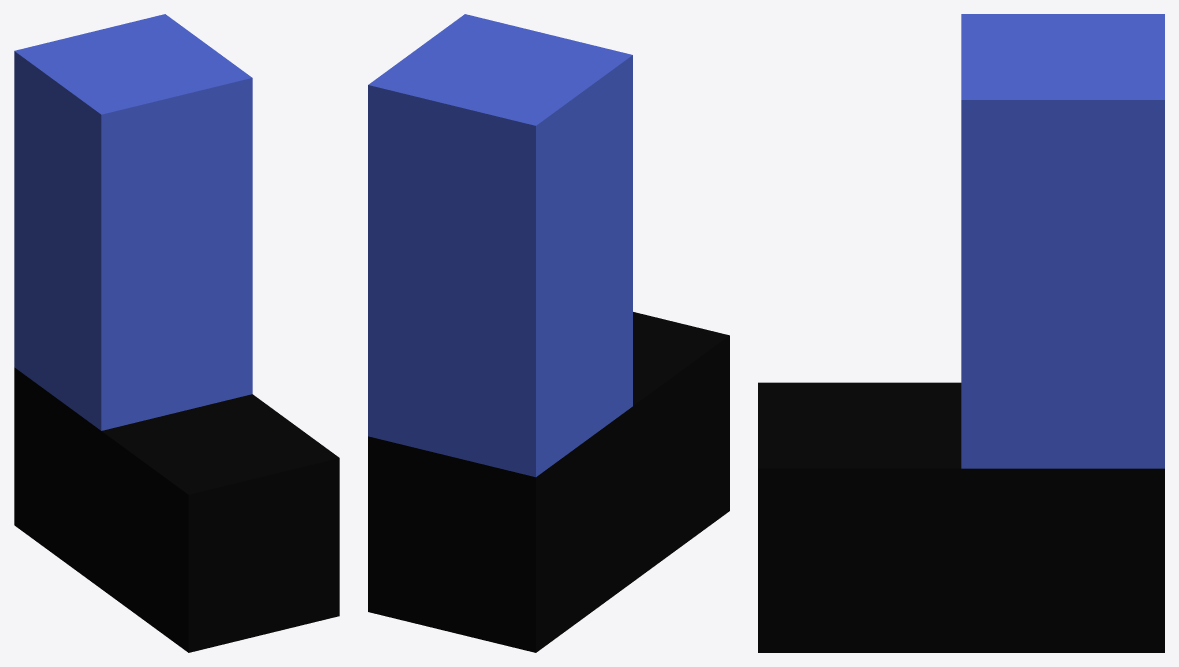
Rendered from people-2.obj.
3 views of the same model, side by side, from view 1: azimuth 30°, elevation 25°; view 2: azimuth 150°, elevation 25°; view 3: azimuth 270°, elevation 25° (orthographic). The views are drawn at different scales.
Size of the model in its own units: 0.1 by 0.3 by 0.2.
Materials: 1 (1 with a texture image).
